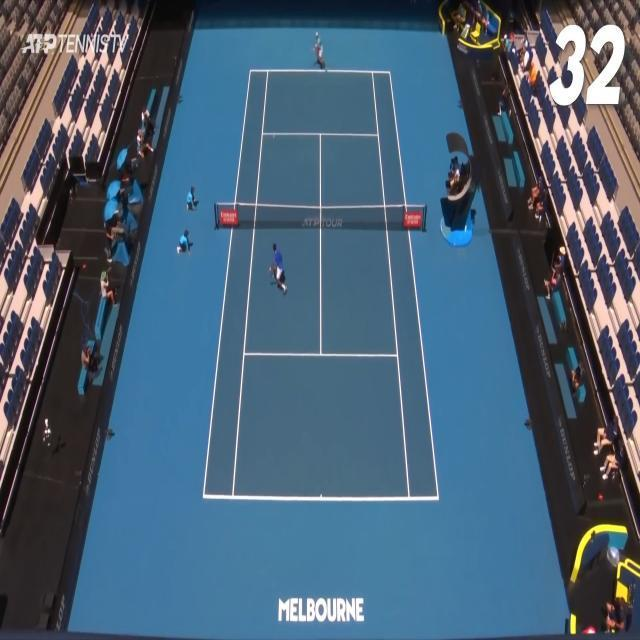court: (202, 70, 439, 502)
net: (214, 202, 428, 234)
player: (270, 243, 288, 295)
